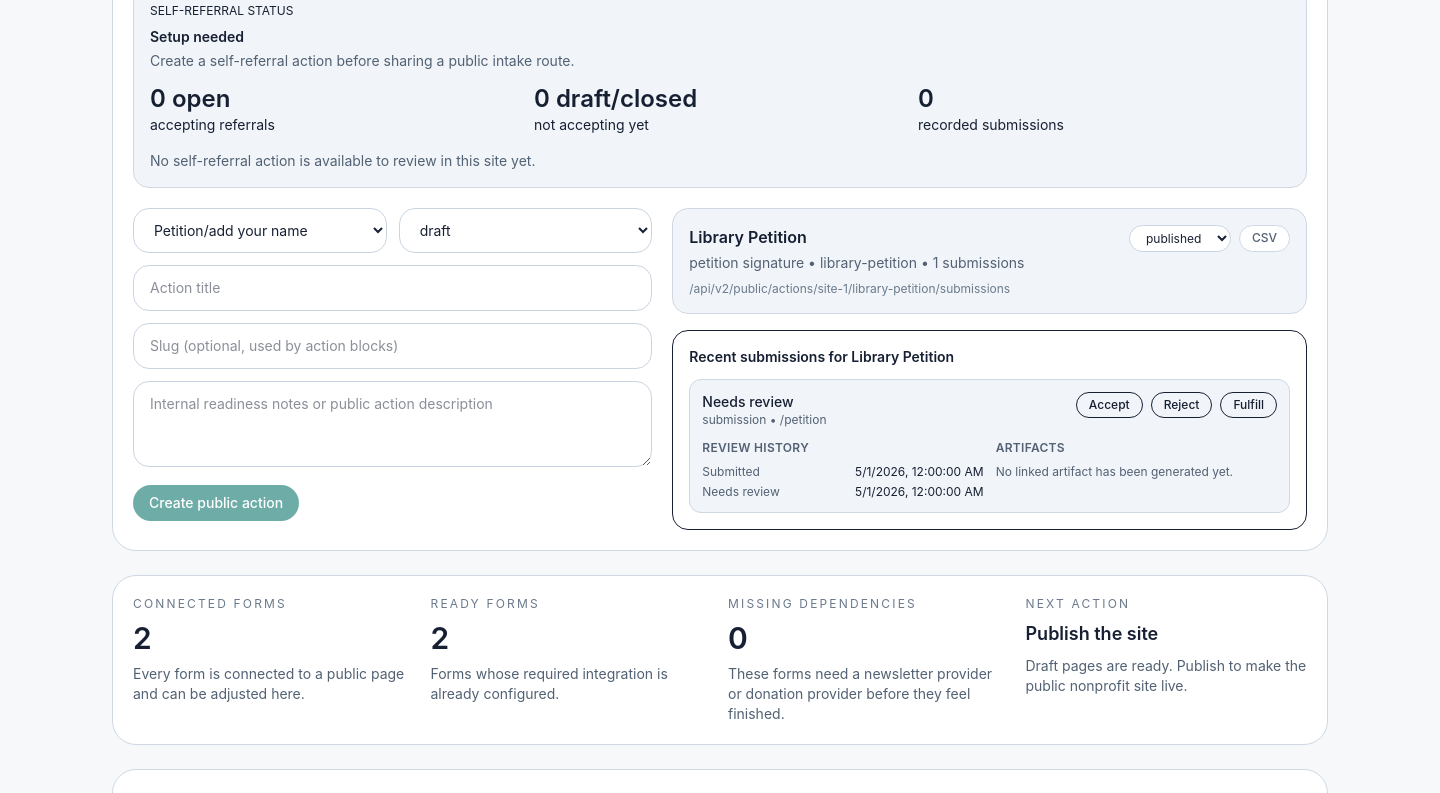
Scenario: WebsiteFormsPage › rejects public-action submissions from the forms workspace review panel
This screenshot has width=1440, height=793.
(page scrolled)
Expected: the heading "Recent submissions for Library Petition" is shown, [689,348,954,365]
Expected: the 1st text "Needs review" is shown, [702,393,794,410]
Click the button "Reject".
click(1182, 405)  # box [1151,392,1212,418]
(page scrolled)
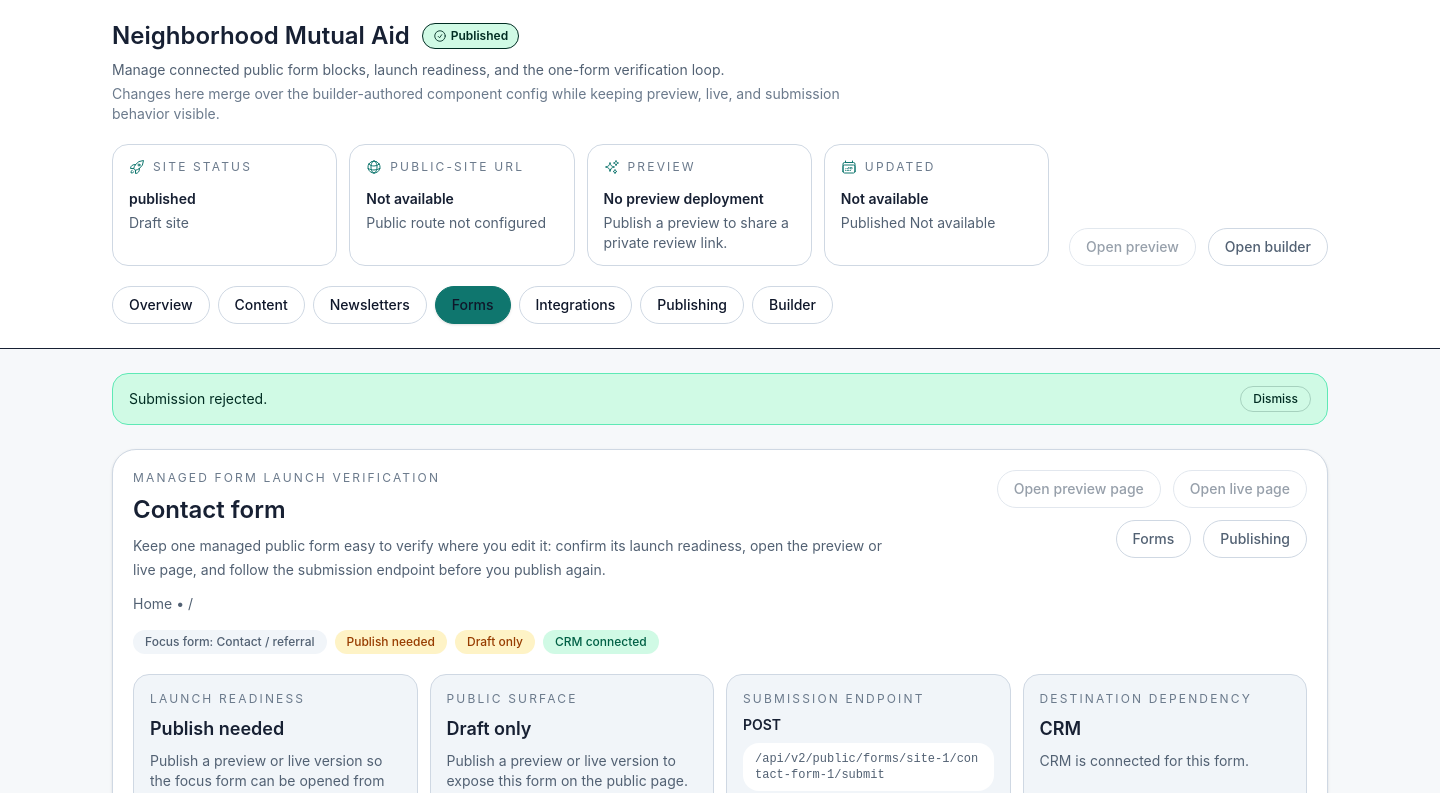
Expected: the button "Accept" is not shown
Expected: the text "Submission rejected." is shown, [129,389,267,409]
Expected: the button "Fulfill" is gone
